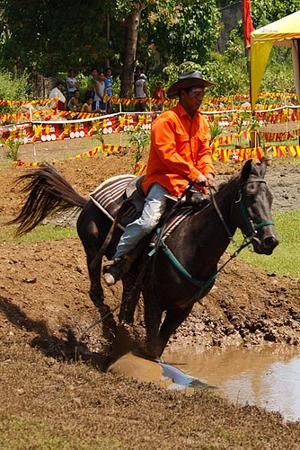person: (101, 66, 218, 286)
